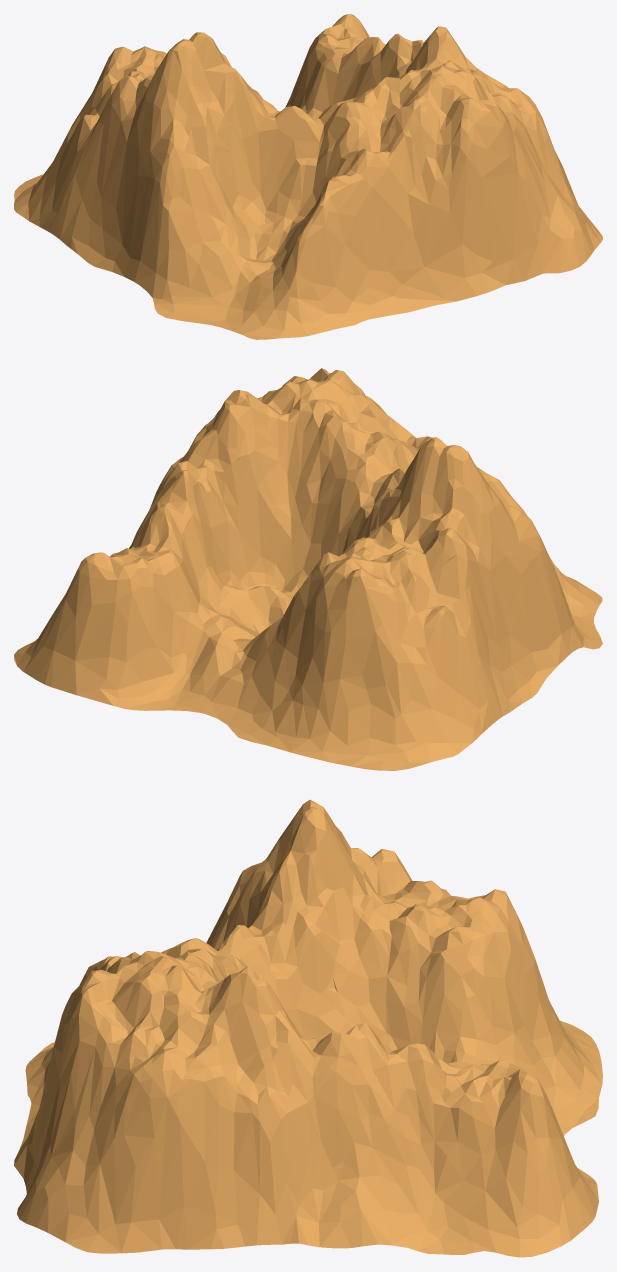
The model's file is Mountain edited.fbx.
3 renders of one model, top to bottom at view 1: azimuth 30°, elevation 25°; view 2: azimuth 150°, elevation 25°; view 3: azimuth 270°, elevation 25°, orthographic. The views are drawn at different scales.
Parts seen in each view (by area): view 1: Mounting_2; view 2: Mounting_2; view 3: Mounting_2.
Part boxes in pixels (<box>): Mounting_2: <box>14,14,602,339</box>; Mounting_2: <box>14,368,602,770</box>; Mounting_2: <box>14,799,602,1257</box>.
Bounding box in the file's own units: 1969 × 979 × 1962.
